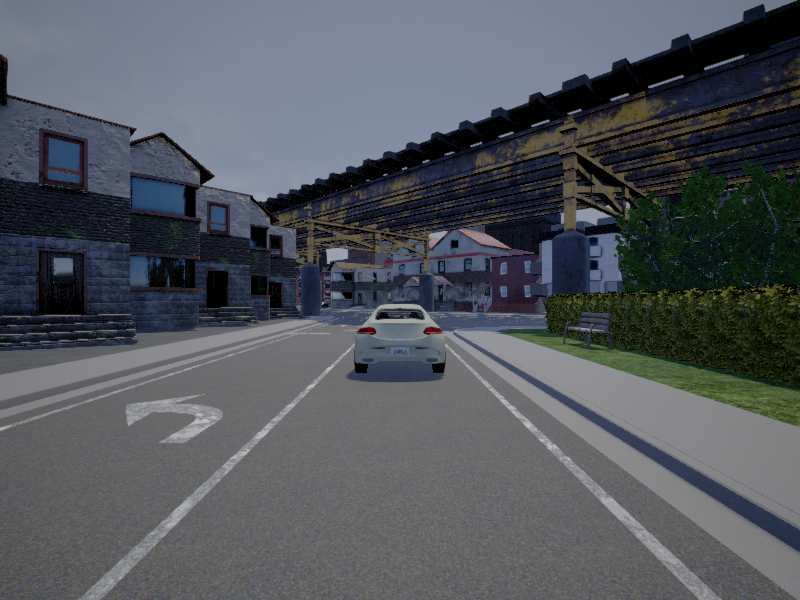Benign: (354, 304, 445, 375)
